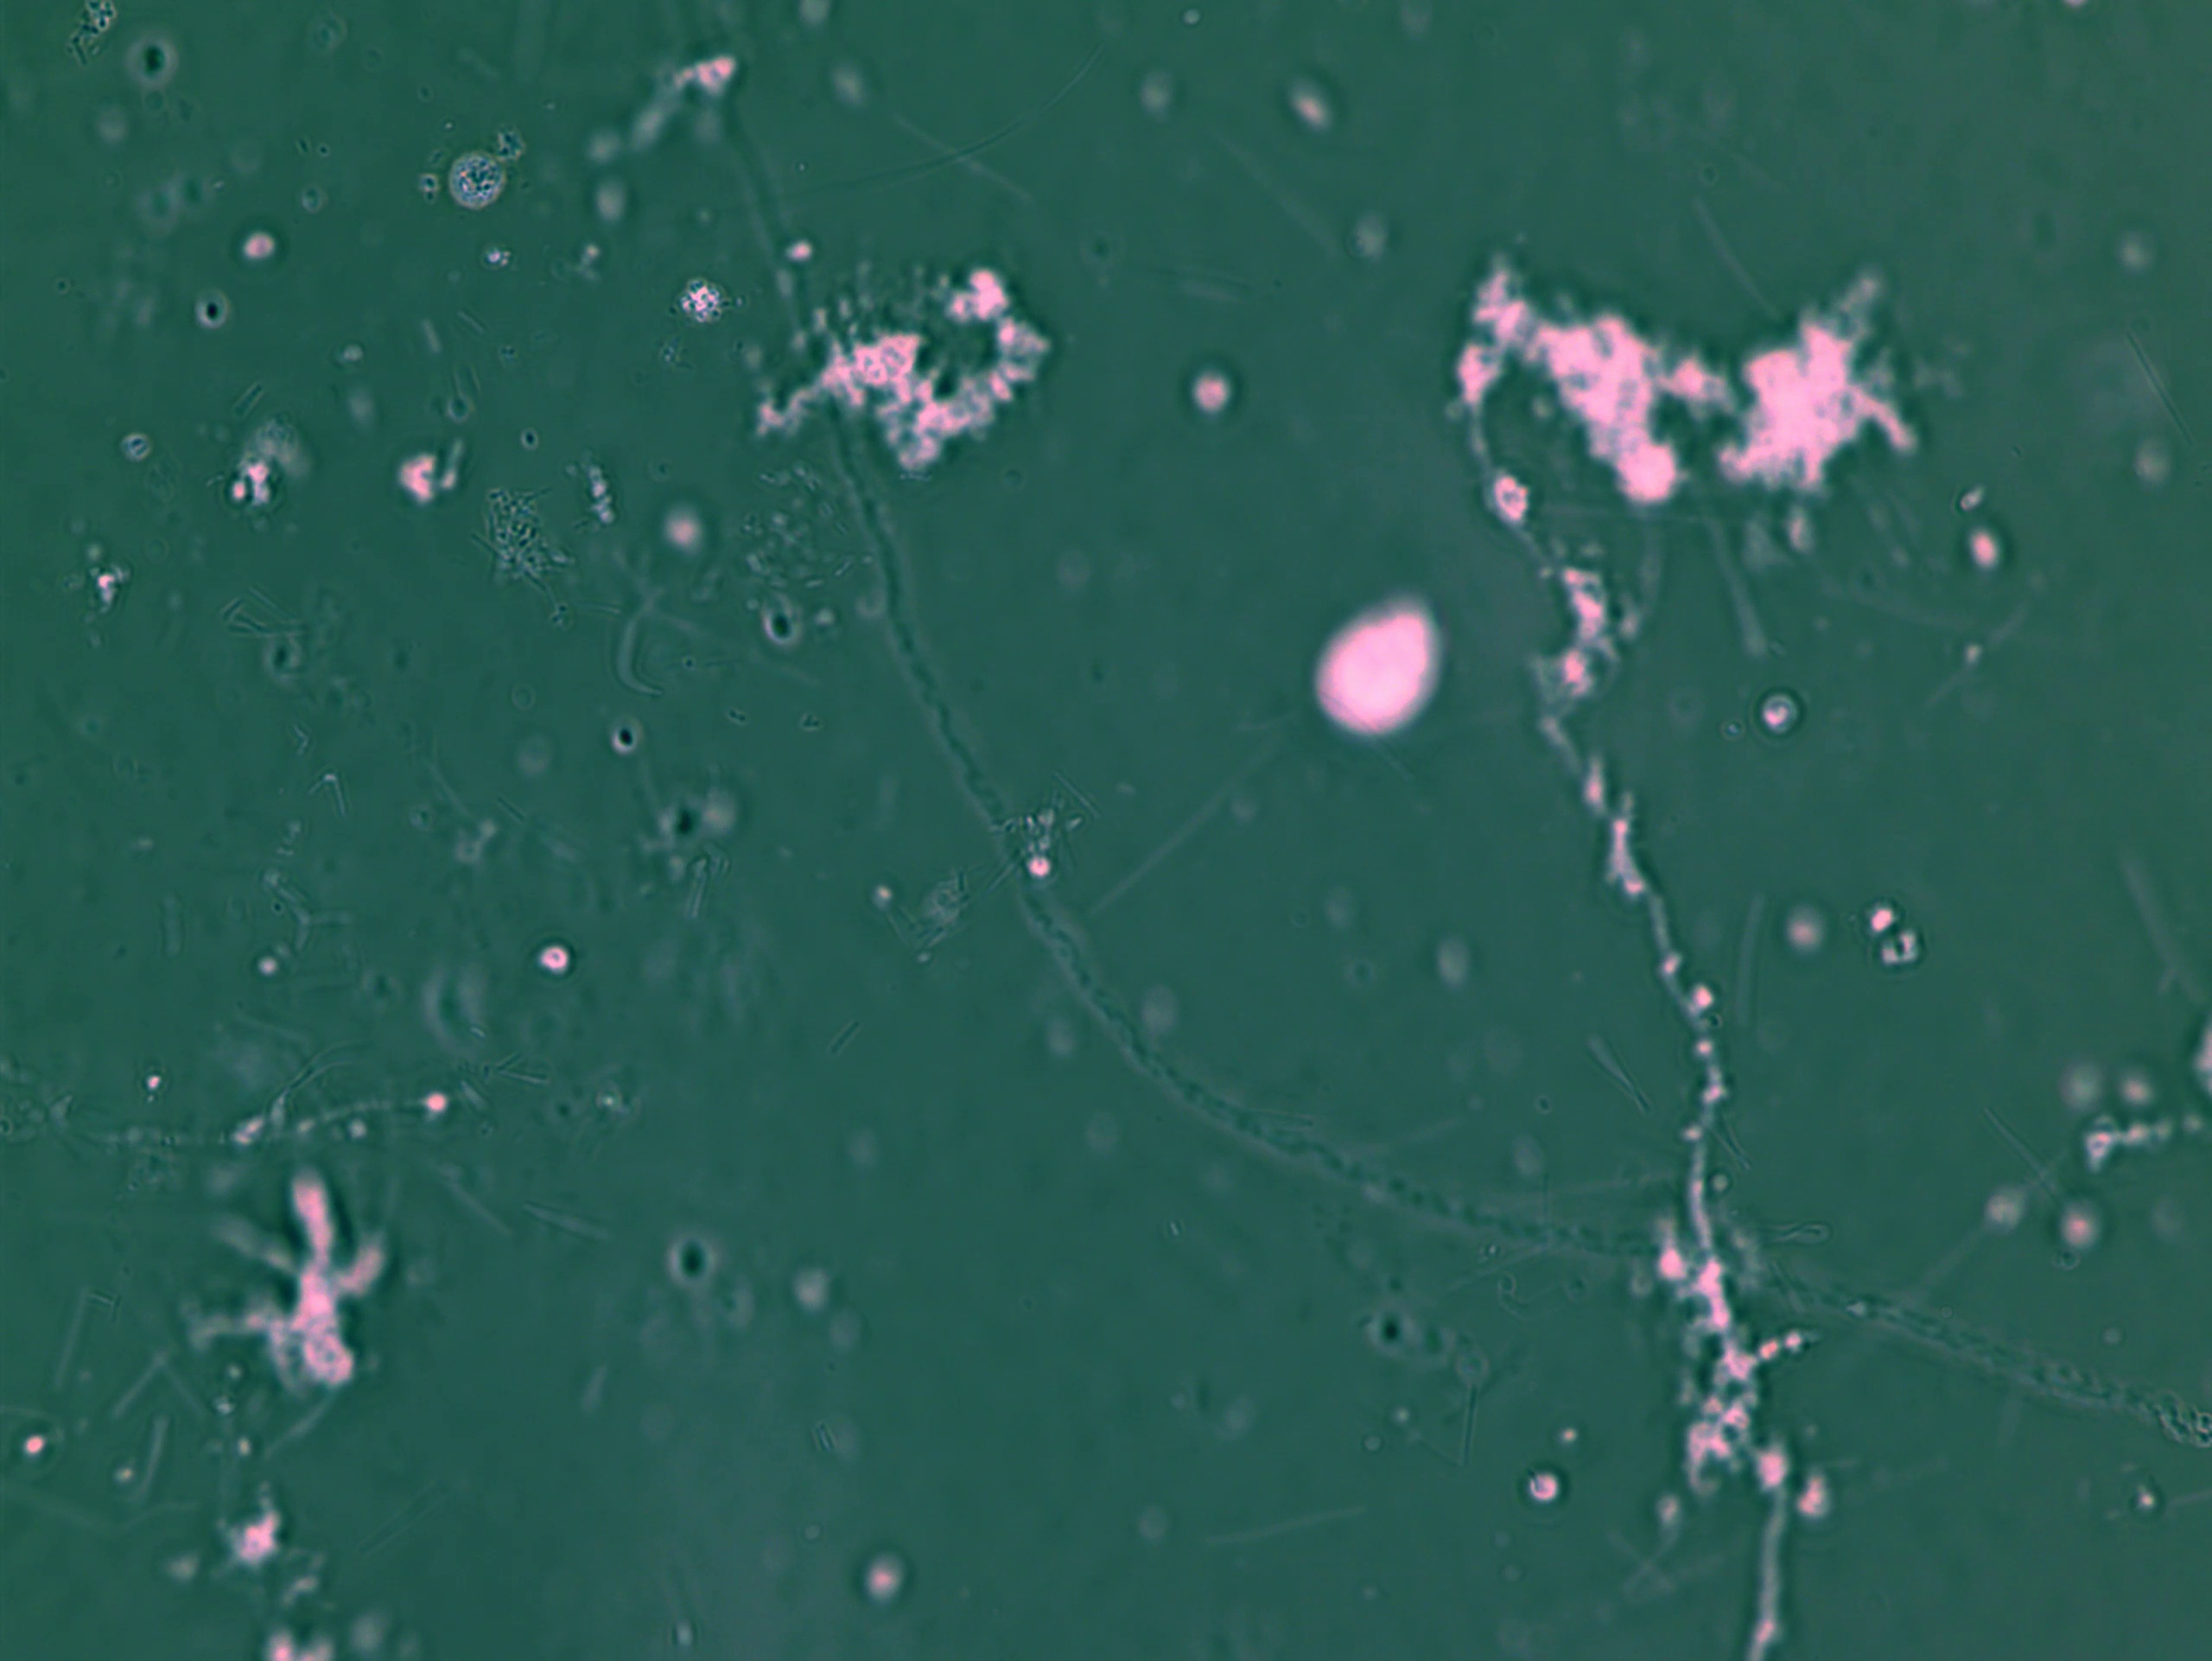depth:60: (1282, 564, 1495, 764)
